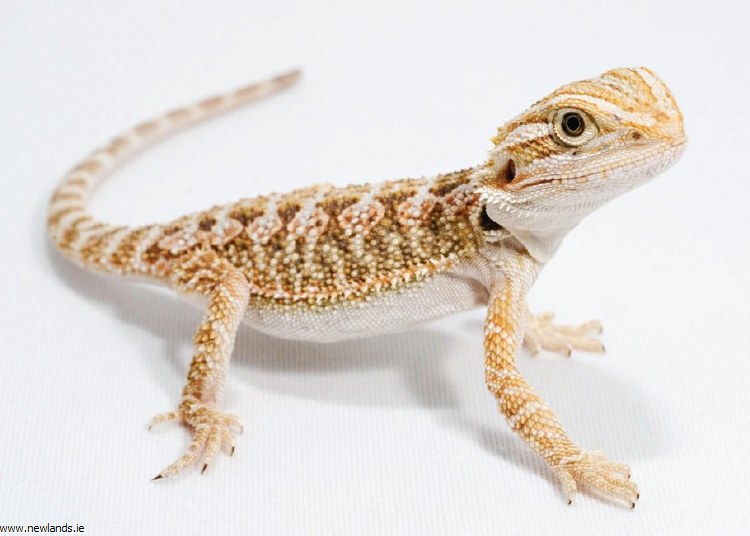bearded: (43, 63, 691, 522)
